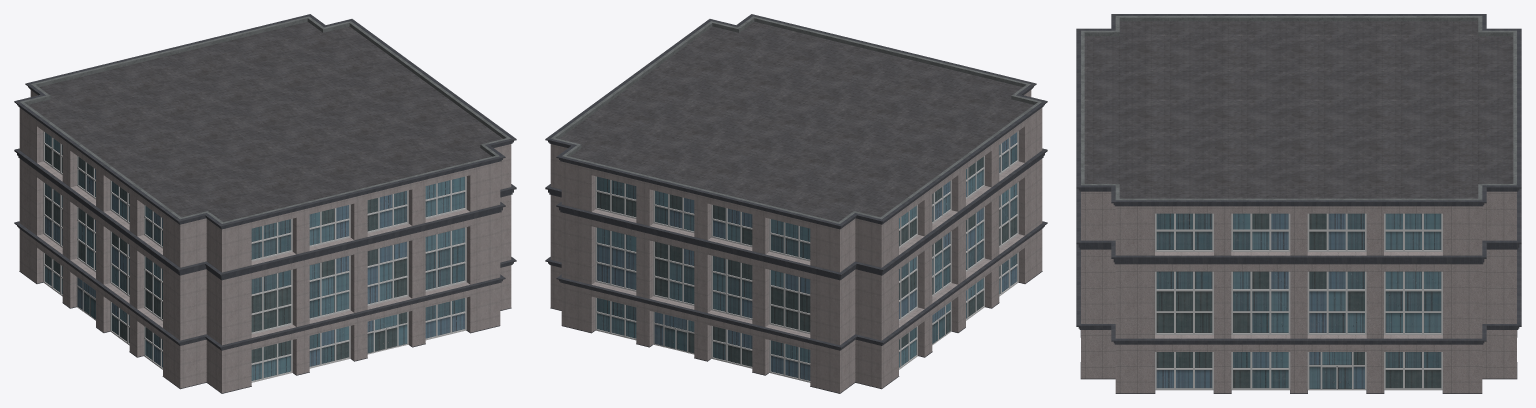
File: jctBld50C_btm.fbx
3 views of the same model, side by side, from view 1: azimuth 30°, elevation 25°; view 2: azimuth 150°, elevation 25°; view 3: azimuth 270°, elevation 25° (orthographic). The views are drawn at different scales.
Parts seen in each view (by area): view 1: jctBld50C_btm_LOD0; view 2: jctBld50C_btm_LOD0; view 3: jctBld50C_btm_LOD0.
Boxes of the visible parts, left/top/right/bottom form: jctBld50C_btm_LOD0: left=14, top=14, right=516, bottom=393; jctBld50C_btm_LOD0: left=545, top=14, right=1047, bottom=393; jctBld50C_btm_LOD0: left=1076, top=14, right=1521, bottom=393.
Bounding box in the file's own units: 5104 × 2450 × 5104.
